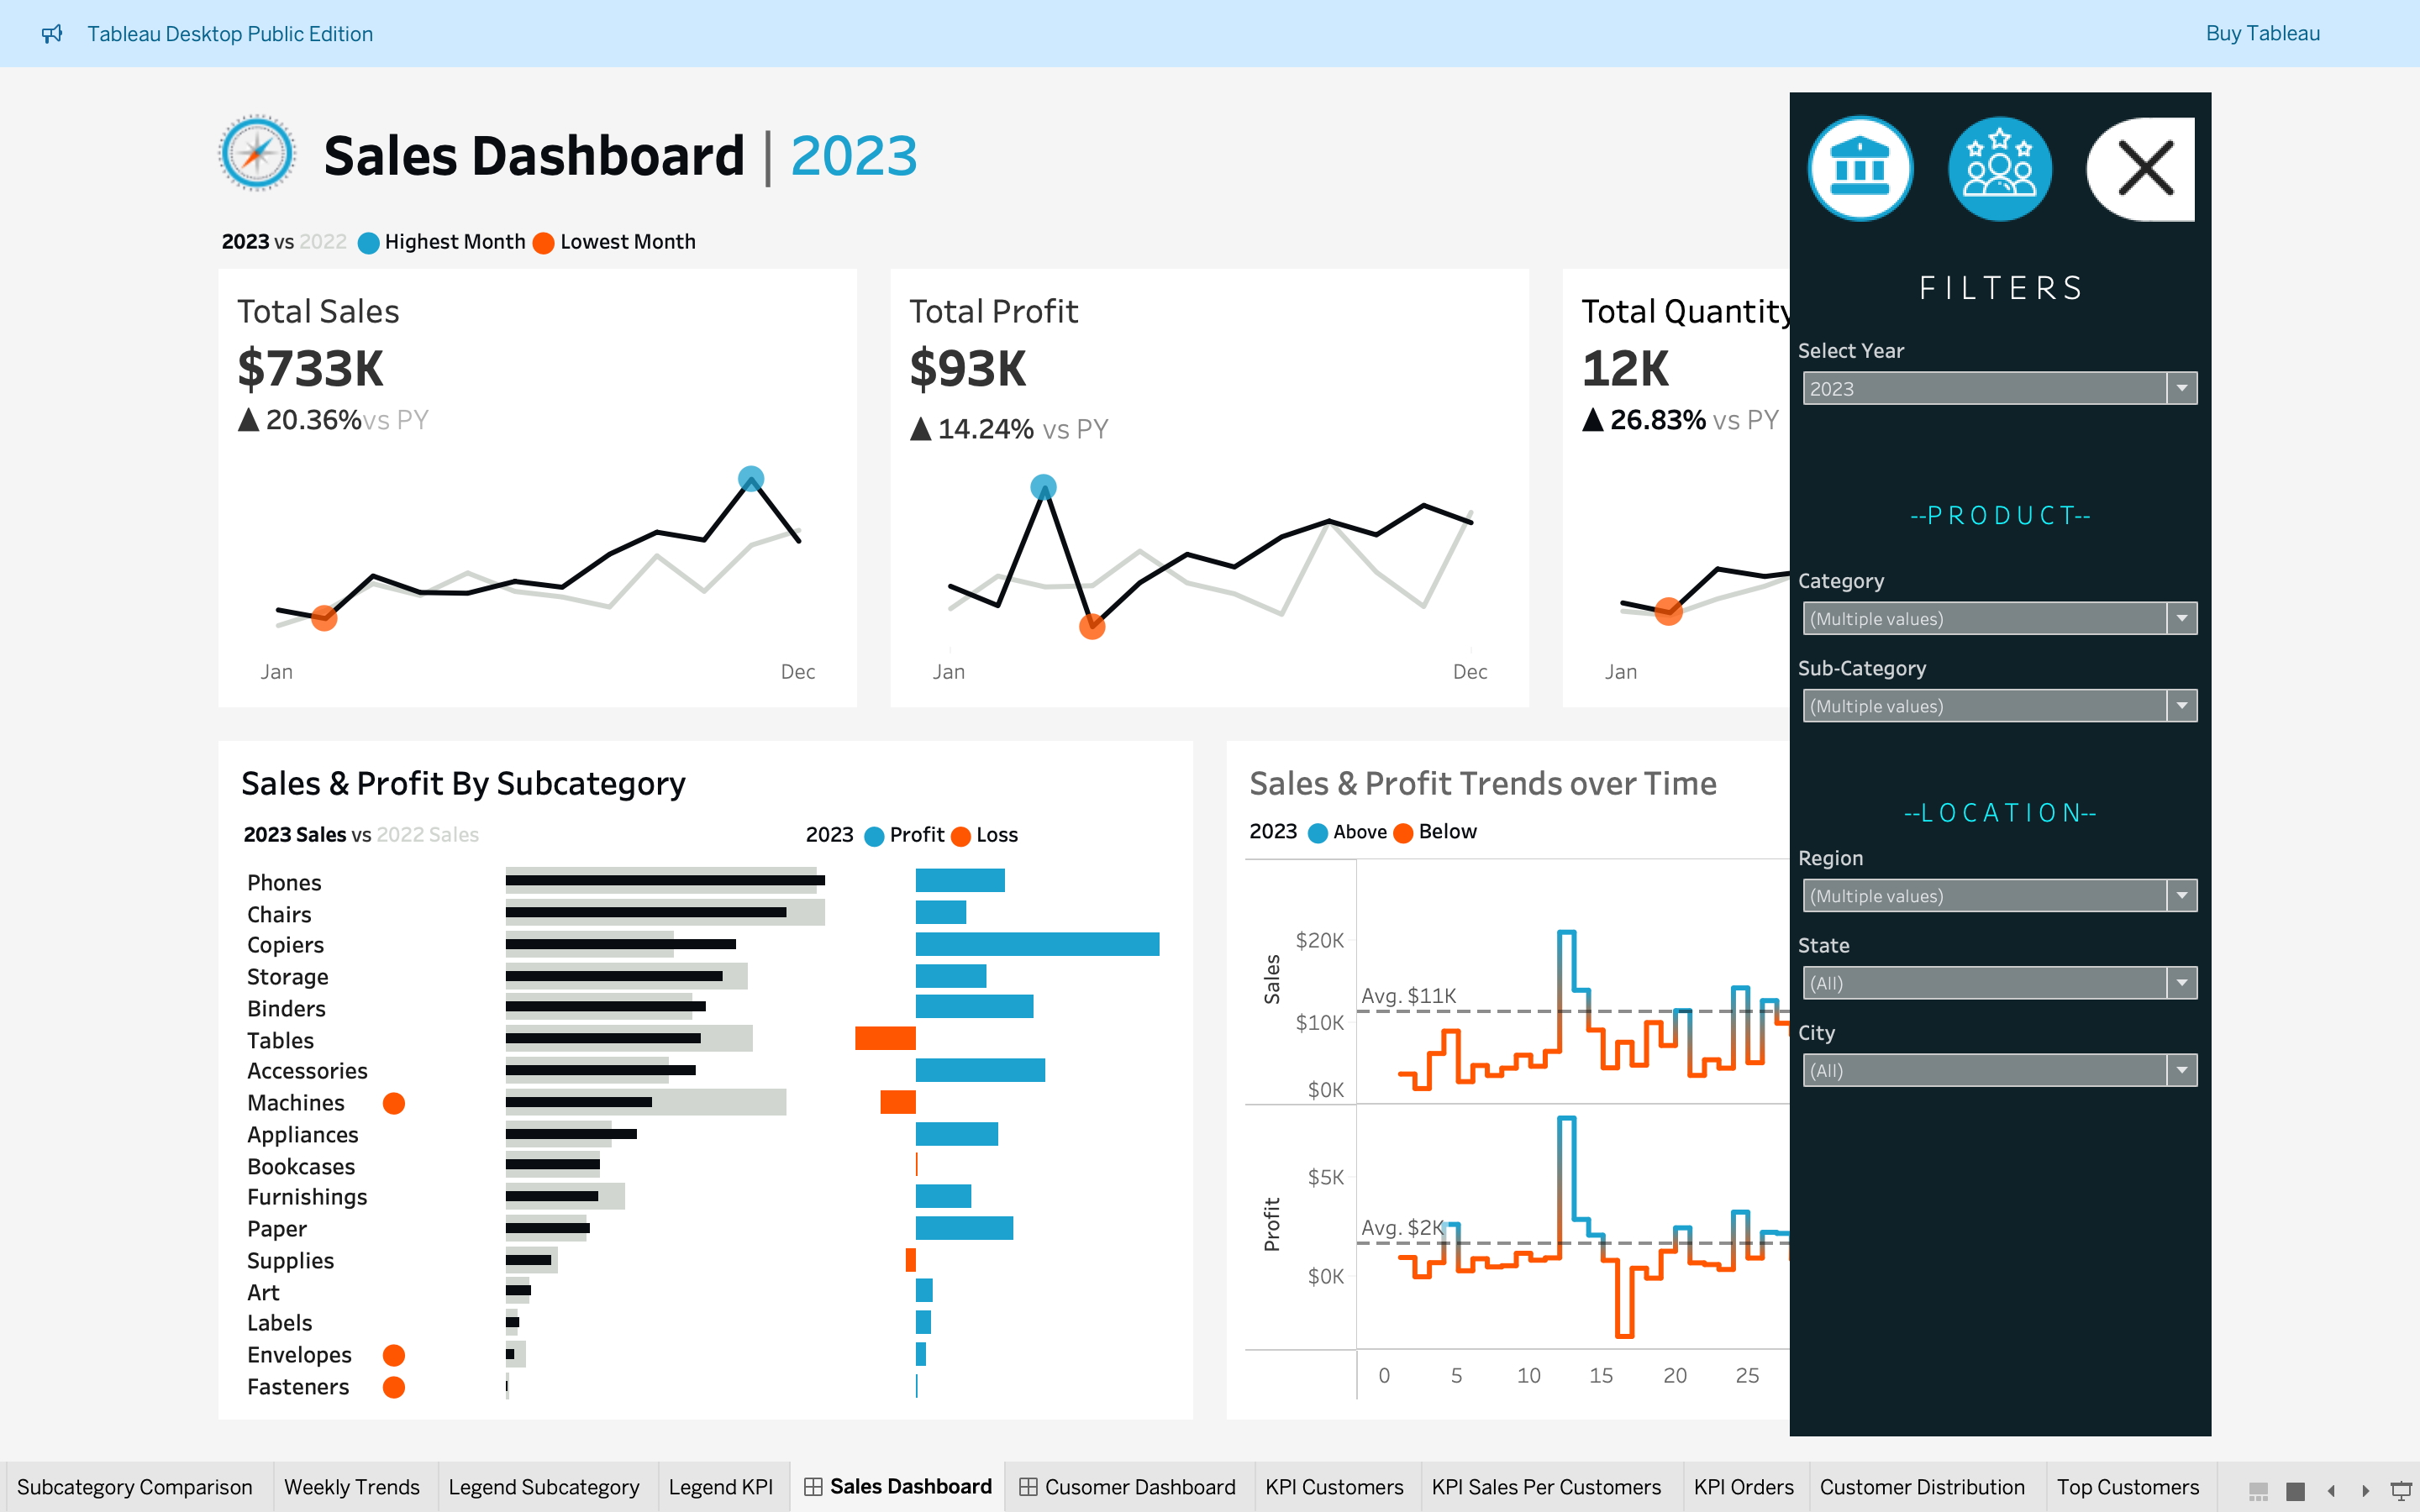

The page's visual inventory and layout, read from the dashboard file:
{"tool":"tableau","page":{"name":"Sales Dashboard","canvas":[1200,800],"ordinal":1},"visuals":[{"type":"image","param":"Image/Icon - Logo.png","box":[0,0,66,73]},{"type":"text","box":[66,0,807,73]},{"type":"blank","box":[946,1,249,90]},{"type":"dashboard-object","box":[946,9,83,73]},{"type":"dashboard-object","box":[1029,9,83,73]},{"type":"dashboard-object","box":[1112,9,83,73]},{"type":"worksheet","title":"Legend KPI","mark":"Automatic","box":[0,73,1200,32]},{"type":"text","box":[946,91,249,50]},{"type":"worksheet","title":"KPI Sales","mark":"Automatic","rows":["Calculation_4468696732098543616"],"cols":["Order Date"],"box":[0,105,400,271]},{"type":"worksheet","title":"KPI Profit","mark":"Automatic","rows":["Calculation_3791749413150191617"],"cols":["Order Date"],"box":[400,105,400,271]},{"type":"worksheet","title":"KPI Quantity","mark":"Automatic","rows":["Calculation_3176585851607392256"],"cols":["Order Date"],"box":[800,105,400,271]},{"type":"parameter","param":"[Parameters].[Parameter 1]","box":[946,141,249,52]},{"type":"blank","box":[946,193,249,32]},{"type":"text","box":[946,225,249,53]},{"type":"filter","title":"KPI Sales","param":"[federated.1y9017q1dy0q4m17bg3la153tcdy].[none:Category:nk]","box":[946,278,249,52]},{"type":"filter","title":"KPI Sales","param":"[federated.1y9017q1dy0q4m17bg3la153tcdy].[none:Sub-Category:nk]","box":[946,330,249,52]},{"type":"blank","box":[946,382,249,32]},{"type":"text","box":[17,393,566,34]},{"type":"text","box":[617,393,566,34]},{"type":"text","box":[946,414,249,29]},{"type":"worksheet","title":"Legend Subcategory","mark":"Automatic","box":[17,427,336,29]},{"type":"text","box":[353,427,230,29]},{"type":"text","box":[617,427,566,25]},{"type":"filter","title":"KPI Sales","param":"[federated.1y9017q1dy0q4m17bg3la153tcdy].[none:Region:nk]","box":[946,443,249,52]},{"type":"worksheet","title":"Weekly Trends","mark":"Automatic","rows":["Calculation_3812085980025712640","Calculation_622552281608544258"],"cols":["Order Date"],"box":[617,452,566,331]},{"type":"worksheet","title":"Subcategory Comparison","mark":"Bar","rows":["Sub-Category","Calculation_6335157302788915200"],"cols":["Calculation_3812085980026093569","Calculation_3812085980025712640","Calculation_622552281608544258"],"box":[17,456,566,326.9]},{"type":"filter","title":"KPI Sales","param":"[federated.1y9017q1dy0q4m17bg3la153tcdy].[none:State:nk]","box":[946,495,249,52]},{"type":"filter","title":"KPI Sales","param":"[federated.1y9017q1dy0q4m17bg3la153tcdy].[none:City:nk]","box":[946,547,249,52]}]}

Visuals, with their boxes on the page's 1200x800 design canvas (x1, y1, x2, y2). These are canvas units, not pixel positions in the 2420x1512 screenshot, which may show the page scaled, cropped or inside an application window:
image: locate(0, 0, 66, 73)
text: locate(66, 0, 873, 73)
blank: locate(946, 1, 1195, 91)
dashboard-object: locate(946, 9, 1029, 82)
dashboard-object: locate(1029, 9, 1112, 82)
dashboard-object: locate(1112, 9, 1195, 82)
"Legend KPI" worksheet: locate(0, 73, 1200, 105)
text: locate(946, 91, 1195, 141)
"KPI Sales" worksheet: locate(0, 105, 400, 376)
"KPI Profit" worksheet: locate(400, 105, 800, 376)
"KPI Quantity" worksheet: locate(800, 105, 1200, 376)
parameter: locate(946, 141, 1195, 193)
blank: locate(946, 193, 1195, 225)
text: locate(946, 225, 1195, 278)
"KPI Sales" filter: locate(946, 278, 1195, 330)
"KPI Sales" filter: locate(946, 330, 1195, 382)
blank: locate(946, 382, 1195, 414)
text: locate(17, 393, 583, 427)
text: locate(617, 393, 1183, 427)
text: locate(946, 414, 1195, 443)
"Legend Subcategory" worksheet: locate(17, 427, 353, 456)
text: locate(353, 427, 583, 456)
text: locate(617, 427, 1183, 452)
"KPI Sales" filter: locate(946, 443, 1195, 495)
"Weekly Trends" worksheet: locate(617, 452, 1183, 783)
"Subcategory Comparison" worksheet (Bar marks): locate(17, 456, 583, 783)
"KPI Sales" filter: locate(946, 495, 1195, 547)
"KPI Sales" filter: locate(946, 547, 1195, 599)
